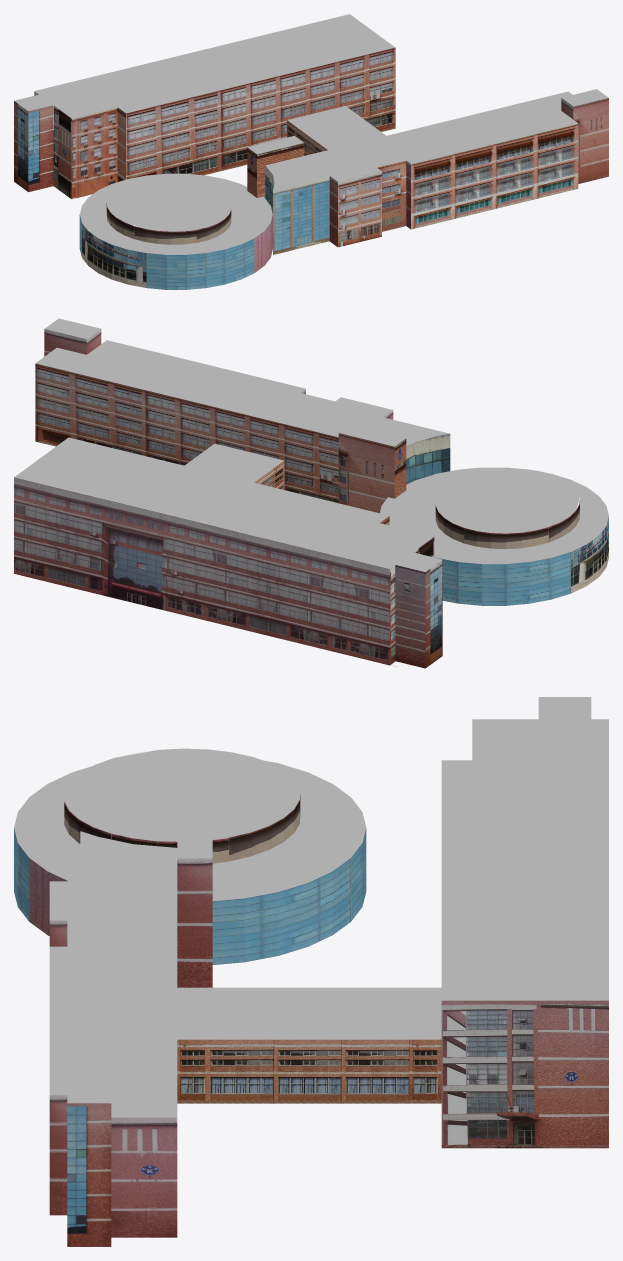
Rendered from yyxy.gltf.
3 views of the same model, one above another, from view 1: azimuth 30°, elevation 25°; view 2: azimuth 150°, elevation 25°; view 3: azimuth 270°, elevation 25° (orthographic). The views are drawn at different scales.
Visible parts, largest first — view 1: Mesh02#1, Mesh01#1, Mesh03#1; view 2: Mesh02#1, Mesh01#1, Mesh03#1; view 3: Mesh02#1, Mesh01#1, Mesh03#1.
Part boxes in pixels (x1,y1,x2,y2): Mesh02#1: (14,14,608,254); Mesh01#1: (79,173,272,289); Mesh03#1: (106,178,231,244); Mesh02#1: (14,318,450,668); Mesh01#1: (380,467,608,605); Mesh03#1: (435,468,579,549); Mesh02#1: (49,697,608,1246); Mesh01#1: (14,760,366,964); Mesh03#1: (64,748,300,863).
Size of the model in its own units: 115 by 18.5 by 67.54.
Materials: 5 (2 with a texture image).
